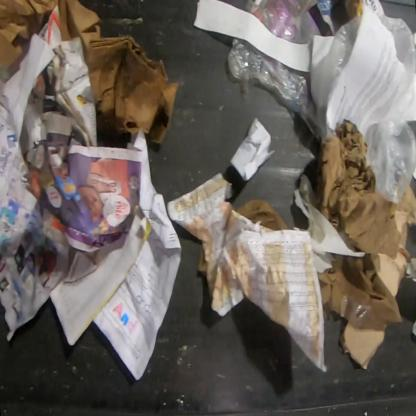cardboard: (59, 2, 177, 146), (315, 122, 390, 254), (370, 184, 416, 298), (338, 323, 386, 372)
soft_plastic: (227, 37, 327, 145), (367, 11, 416, 206), (316, 13, 364, 137), (245, 1, 318, 45)
